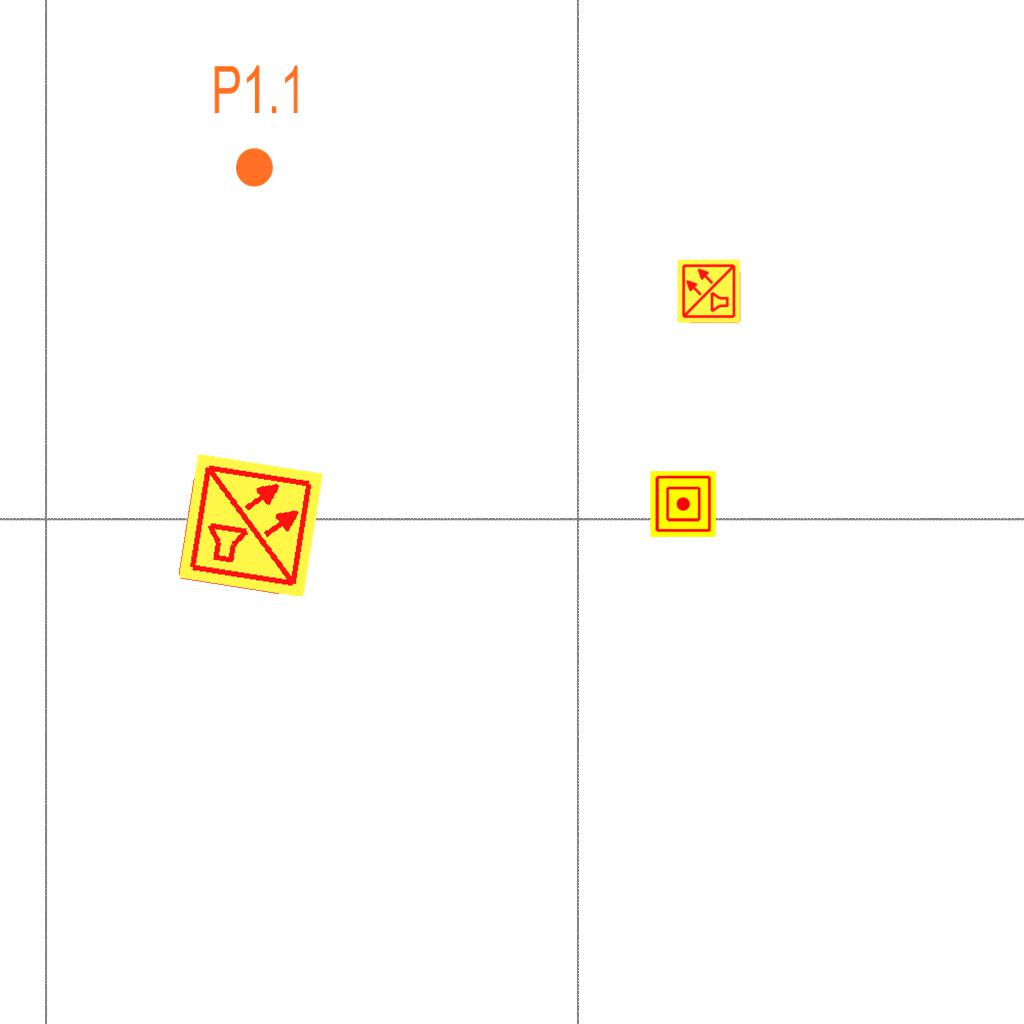Downlight_LED_Einbauleuchten_Flur_2: (211, 62, 304, 190)
NAM-Nichtautomatischer_Melder: (650, 471, 716, 537)
OKW_Multisensormelder_(Kombination_optischer_Rauch-Kahlenmonoxid_Waerme-Melder): (175, 450, 327, 602), (676, 258, 742, 324)
